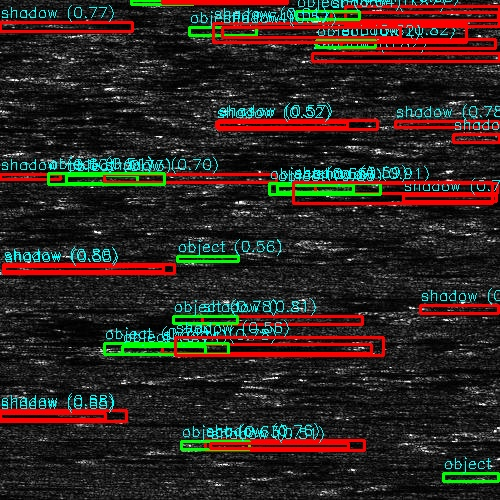rock: (128, 338, 233, 359), (146, 26, 281, 39), (313, 37, 396, 50), (291, 181, 364, 194), (362, 194, 445, 205), (285, 11, 348, 20), (47, 173, 120, 180), (209, 196, 282, 203), (192, 317, 245, 324), (154, 0, 207, 6), (57, 418, 110, 423), (213, 434, 224, 453), (0, 318, 11, 327), (486, 75, 500, 78)
shadow: (214, 26, 478, 39), (181, 338, 344, 359), (0, 318, 263, 327), (328, 181, 500, 194), (355, 37, 500, 50), (246, 196, 500, 203), (219, 434, 306, 453), (317, 11, 500, 20), (219, 317, 388, 324), (404, 194, 500, 205), (84, 173, 209, 180), (0, 19, 65, 32), (181, 0, 311, 6), (0, 411, 79, 418), (84, 418, 166, 423), (0, 89, 69, 94), (0, 498, 123, 500), (19, 269, 138, 270)
